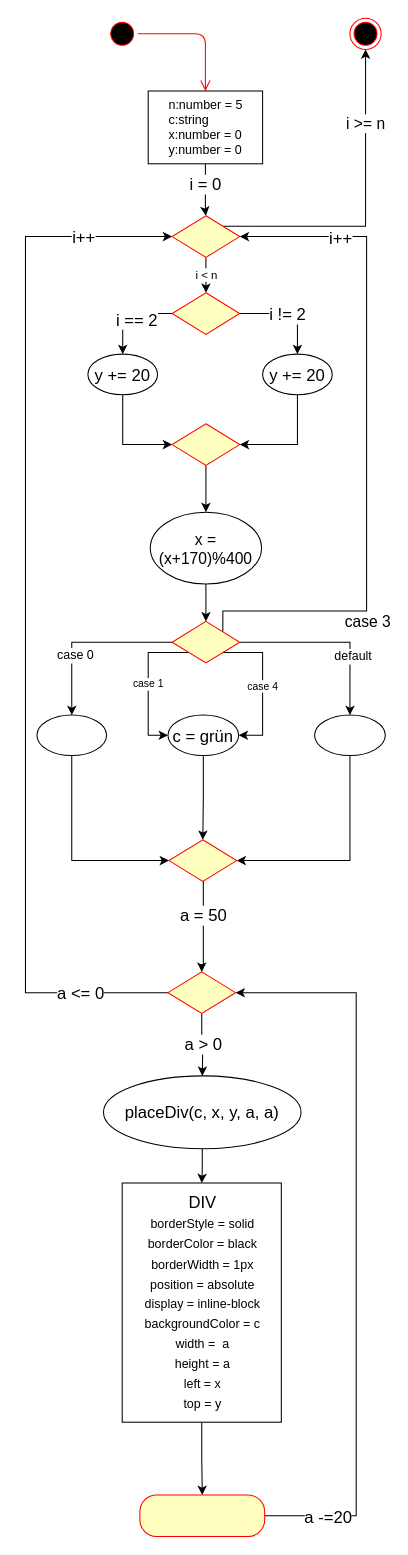
Image size: 408x1555. Some labels were removed from this diagram. Each missing label, with the box of its shape:
append: (139, 1494, 265, 1537)
c = blau: (314, 714, 385, 756)
c = rot: (36, 714, 107, 756)
